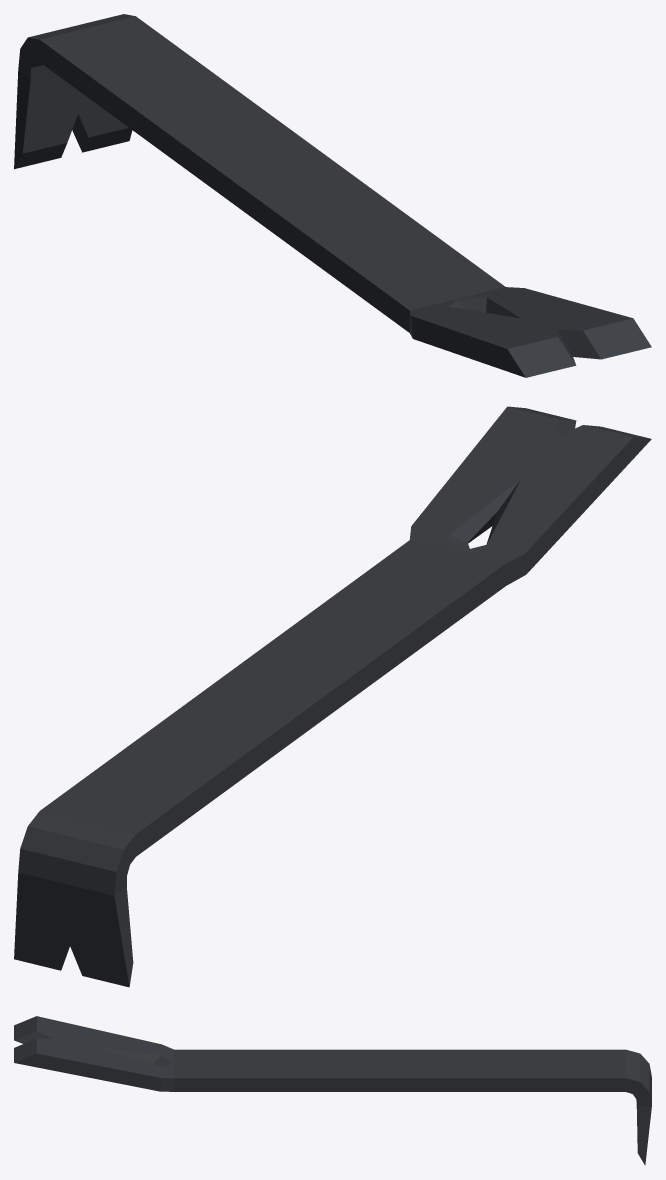
File: SM_Tool_Prybar_01.fbx
The picture shows the model from 3 angles, top to bottom: view 1: azimuth 30°, elevation 25°; view 2: azimuth 150°, elevation 25°; view 3: azimuth 270°, elevation 25°; orthographic projection. The views are drawn at different scales.
Parts seen in each view (by area): view 1: SM_Tool_Prybar_01; view 2: SM_Tool_Prybar_01; view 3: SM_Tool_Prybar_01.
Boxes of the visible parts, x1=… form: SM_Tool_Prybar_01: x1=14, y1=14, x2=651, y2=377; SM_Tool_Prybar_01: x1=14, y1=406, x2=651, y2=987; SM_Tool_Prybar_01: x1=14, y1=1016, x2=651, y2=1165.
Bounding box in the file's own units: 7.87 × 11.13 × 56.51.
